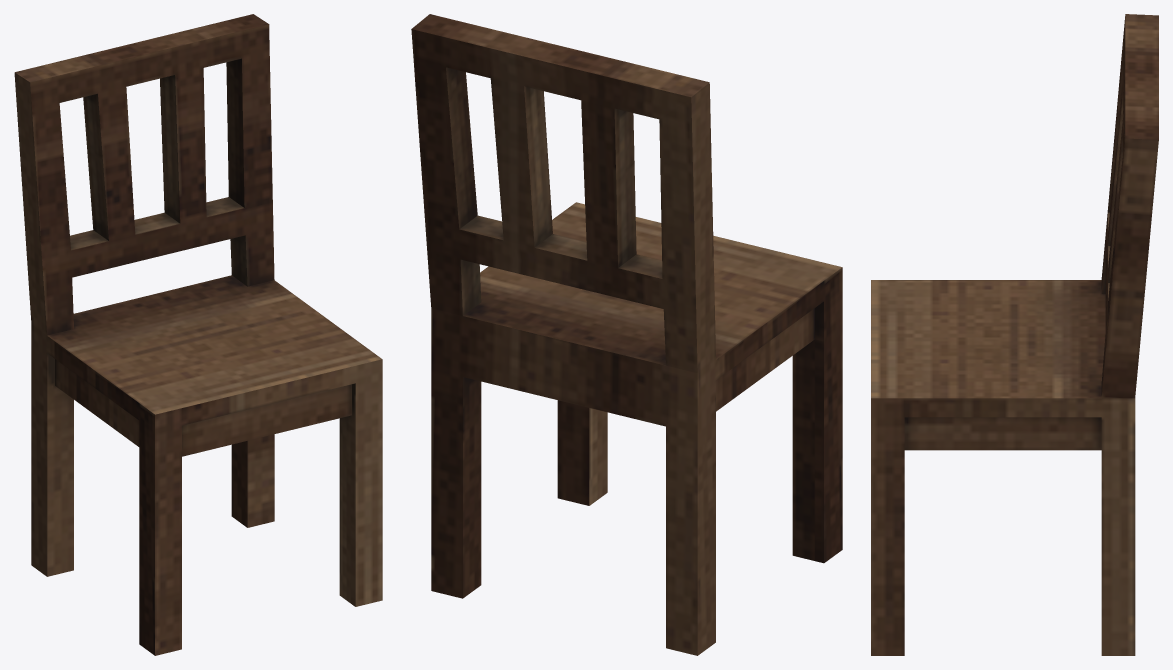
File: chair_wooden.fbx
The picture shows the model from 3 angles, left to right: view 1: azimuth 30°, elevation 25°; view 2: azimuth 150°, elevation 25°; view 3: azimuth 270°, elevation 25°; orthographic projection. The views are drawn at different scales.
Parts seen in each view (by area): view 1: chair_wooden; view 2: chair_wooden; view 3: chair_wooden.
Boxes of the visible parts, bbox=[...] form: chair_wooden: bbox=[14, 14, 382, 655]; chair_wooden: bbox=[411, 14, 842, 655]; chair_wooden: bbox=[871, 14, 1158, 655].
Bounding box in the file's own units: 51.65 × 101 × 50.49.
Materials: 1 (1 with a texture image).
